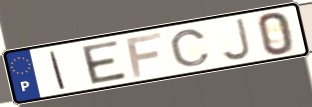0: (256, 10, 295, 57)
C: (168, 28, 213, 68)
E: (79, 39, 130, 86)
F: (124, 31, 165, 80)
I: (47, 49, 68, 91)
J: (219, 17, 253, 63)
